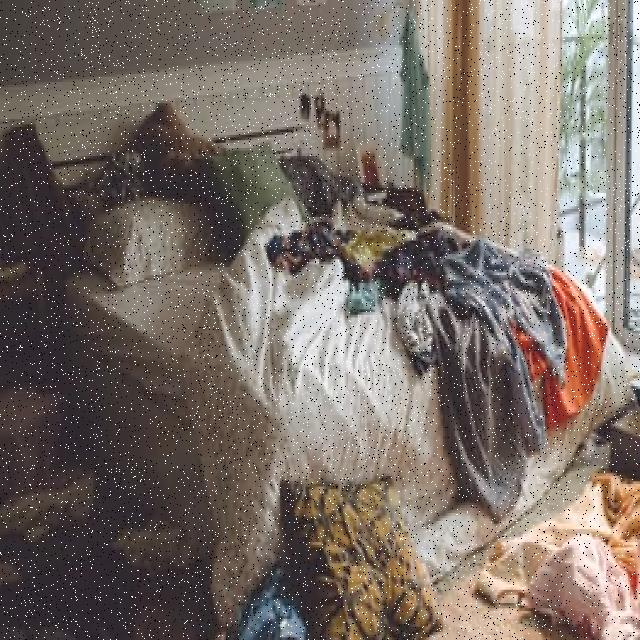bed: (62, 97, 631, 635)
